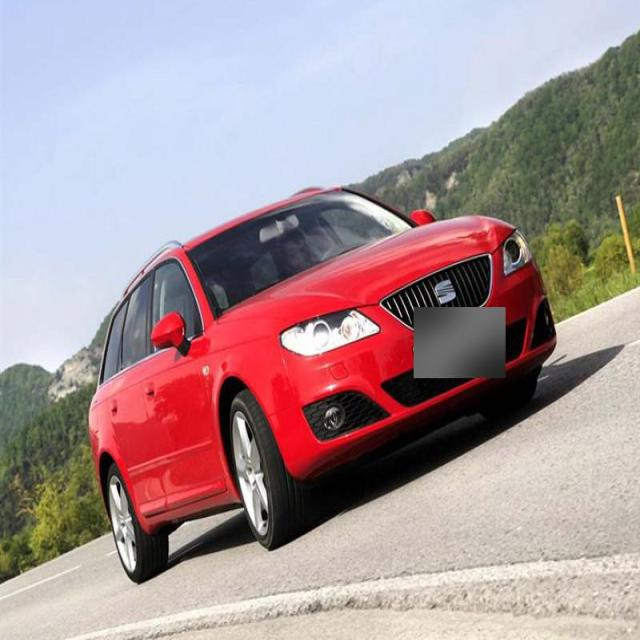front_bumper: (247, 246, 559, 480)
front_glass: (185, 184, 418, 348)
front_left_side_light: (407, 205, 438, 237)
front_right_side_door: (143, 253, 230, 517)
front_right_side_light: (276, 304, 382, 362)
front_right_side_mirror: (150, 310, 196, 362)
wheel: (226, 400, 313, 550), (104, 462, 170, 587)
